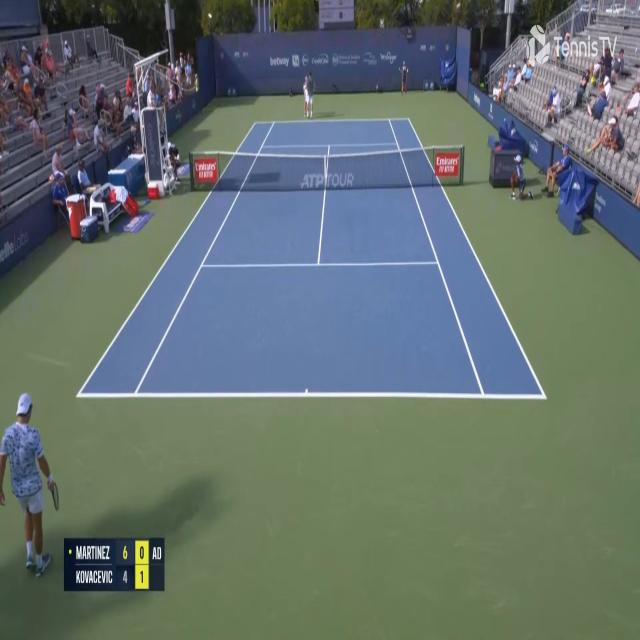tennis-player: (4, 387, 60, 578), (302, 69, 316, 118)
